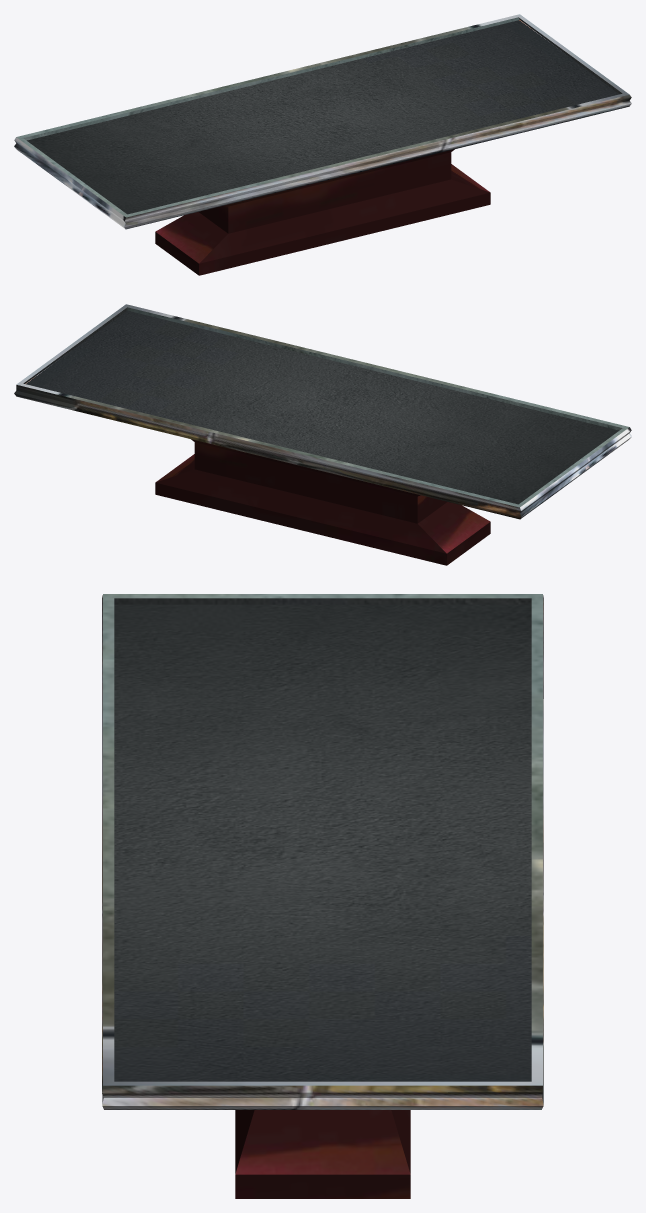
Rendered from Table1.fbx.
3 views of the same model, one above another, from view 1: azimuth 30°, elevation 25°; view 2: azimuth 150°, elevation 25°; view 3: azimuth 270°, elevation 25° (orthographic). The views are drawn at different scales.
Visible parts, largest first — view 1: Cube.006; view 2: Cube.006; view 3: Cube.006.
Part boxes in pixels (bbox=[...]): Cube.006: bbox=[14, 14, 631, 275]; Cube.006: bbox=[14, 304, 631, 565]; Cube.006: bbox=[102, 594, 543, 1198].
Size of the model in its own units: 4.81 by 1.81 by 0.9806.
